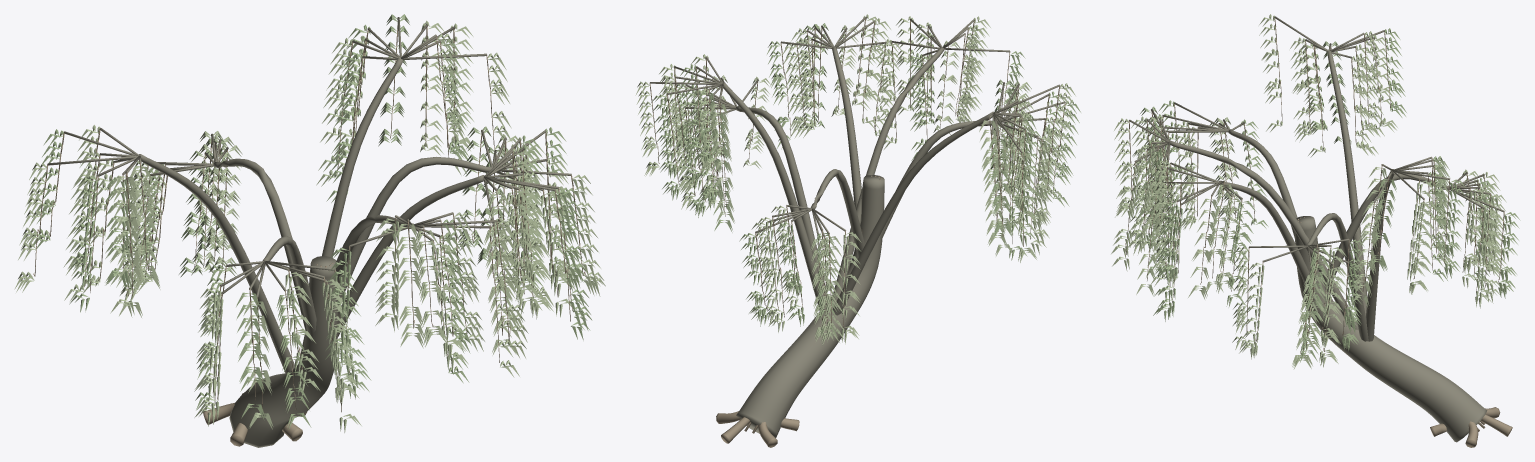
The model's file is grove-willow-11.glb.
3 views of the same model, side by side, from view 1: azimuth 30°, elevation 25°; view 2: azimuth 150°, elevation 25°; view 3: azimuth 270°, elevation 25° (orthographic). The views are drawn at different scales.
Visible parts, largest first — view 1: grove-willow-11; view 2: grove-willow-11; view 3: grove-willow-11.
Boxes of the visible parts, x1,y1,x2,y2 form: grove-willow-11: (14,14,605,447); grove-willow-11: (635,14,1080,447); grove-willow-11: (1111,14,1520,447).
Size of the model in its own units: 8.29 by 6.62 by 7.53.
